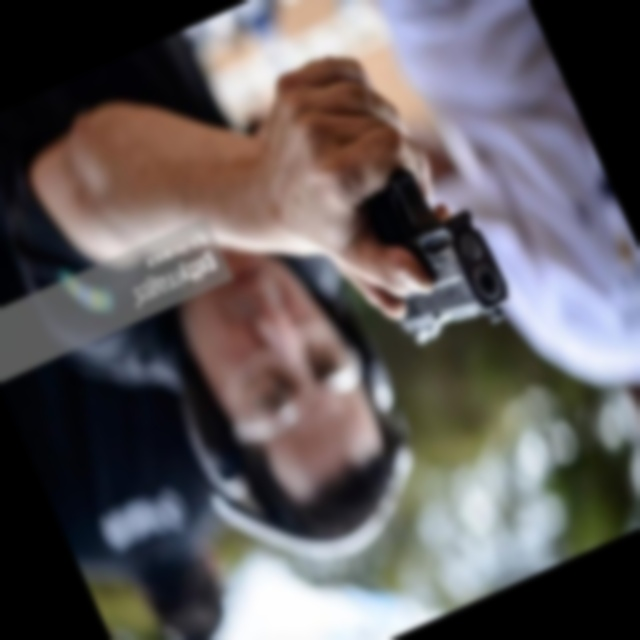gun: (342, 145, 526, 360)
